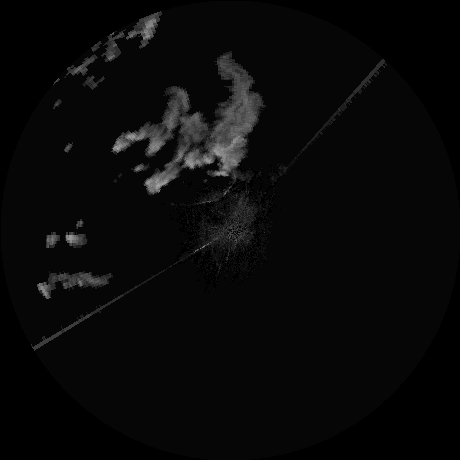frontgust: (194, 172, 235, 207)
